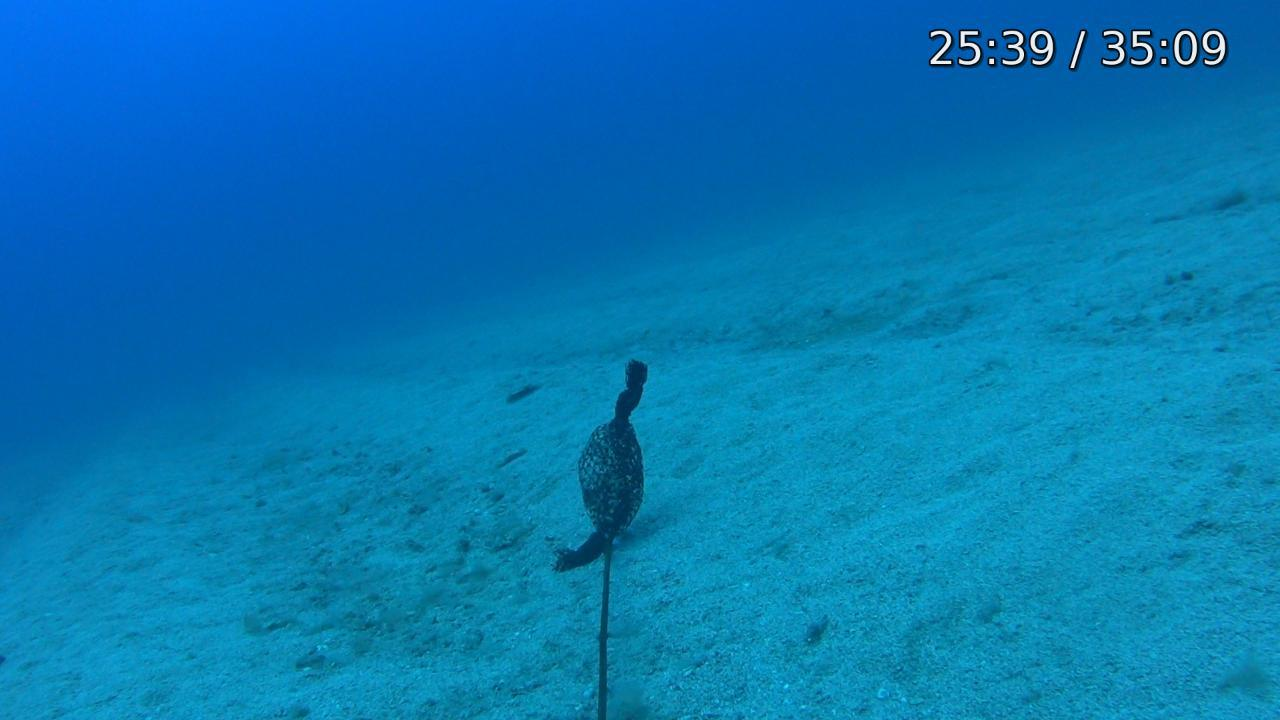bothus: (494, 362, 545, 399), (483, 440, 532, 468)
